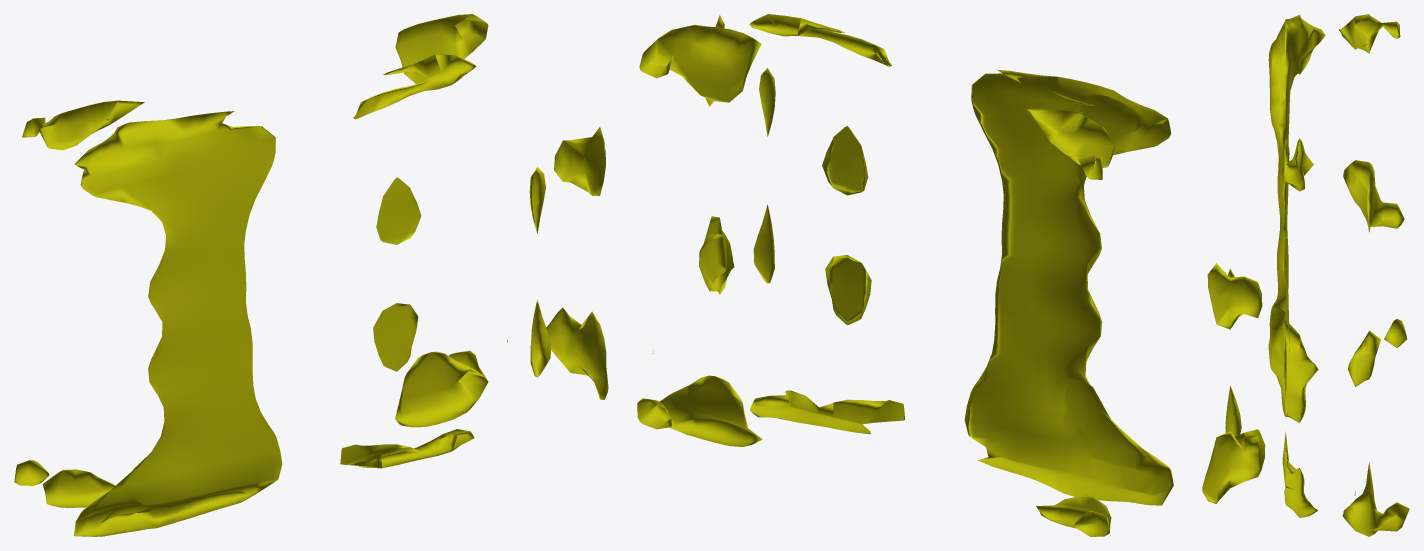
3 views of the same model, side by side, from view 1: azimuth 30°, elevation 25°; view 2: azimuth 150°, elevation 25°; view 3: azimuth 270°, elevation 25° (orthographic). The views are drawn at different scales.
Parts seen in each view (by area): view 1: world; view 2: world; view 3: world.
Part boxes in pixels (x1=…): world: x1=14, y1=14, x2=608, y2=536; world: x1=637, y1=14, x2=1173, y2=536; world: x1=1202, y1=14, x2=1409, y2=536.
Size of the model in its own units: 35.87 by 28.26 by 14.95.
